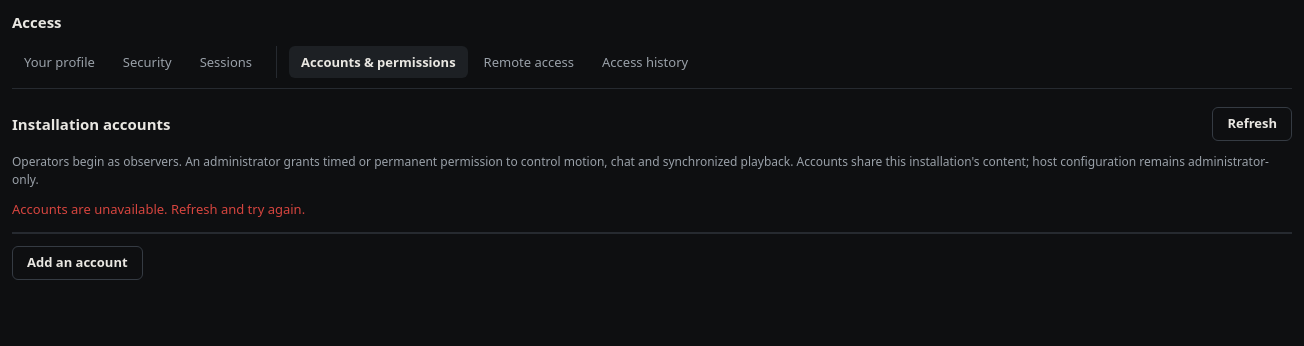
account settings task navigation › bounds a stalled directory read and recovers through explicit refresh
Expected: the message shows "Accounts are unavailable", [12,200,305,218]
Click the button with aria-label "Refresh accounts": click(1252, 124) [1212,107,1292,141]
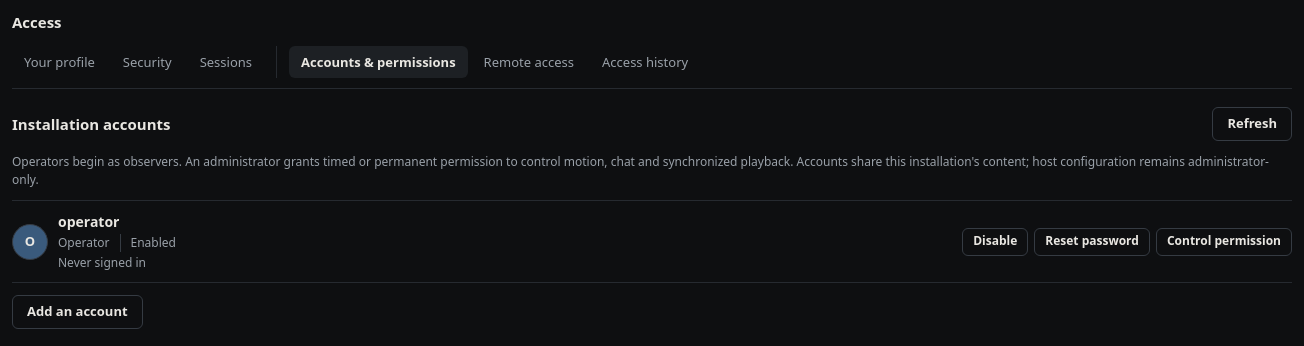
Now the text "operator" is shown, box [58,212,119,231]
